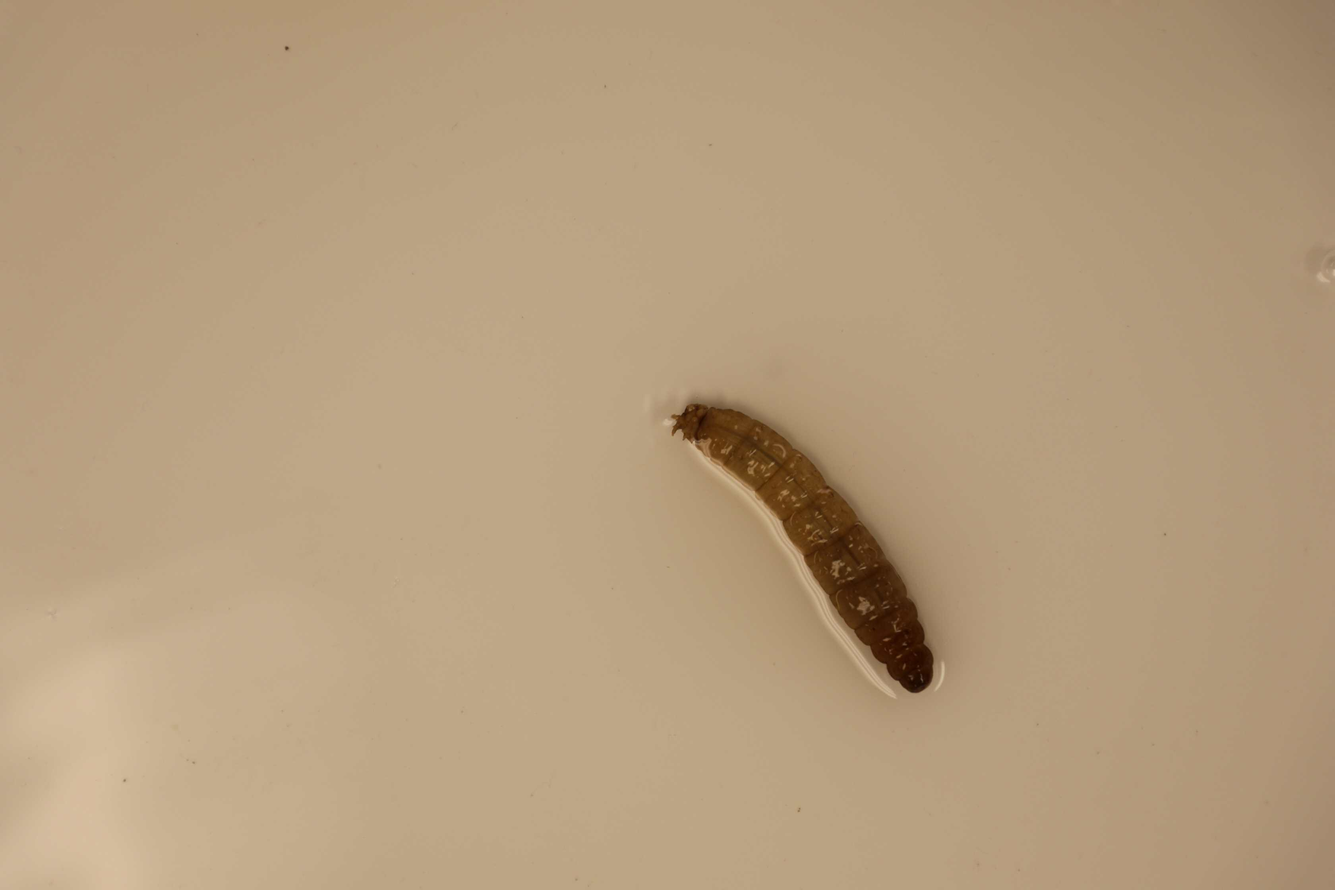Other: (669, 401, 936, 694)
